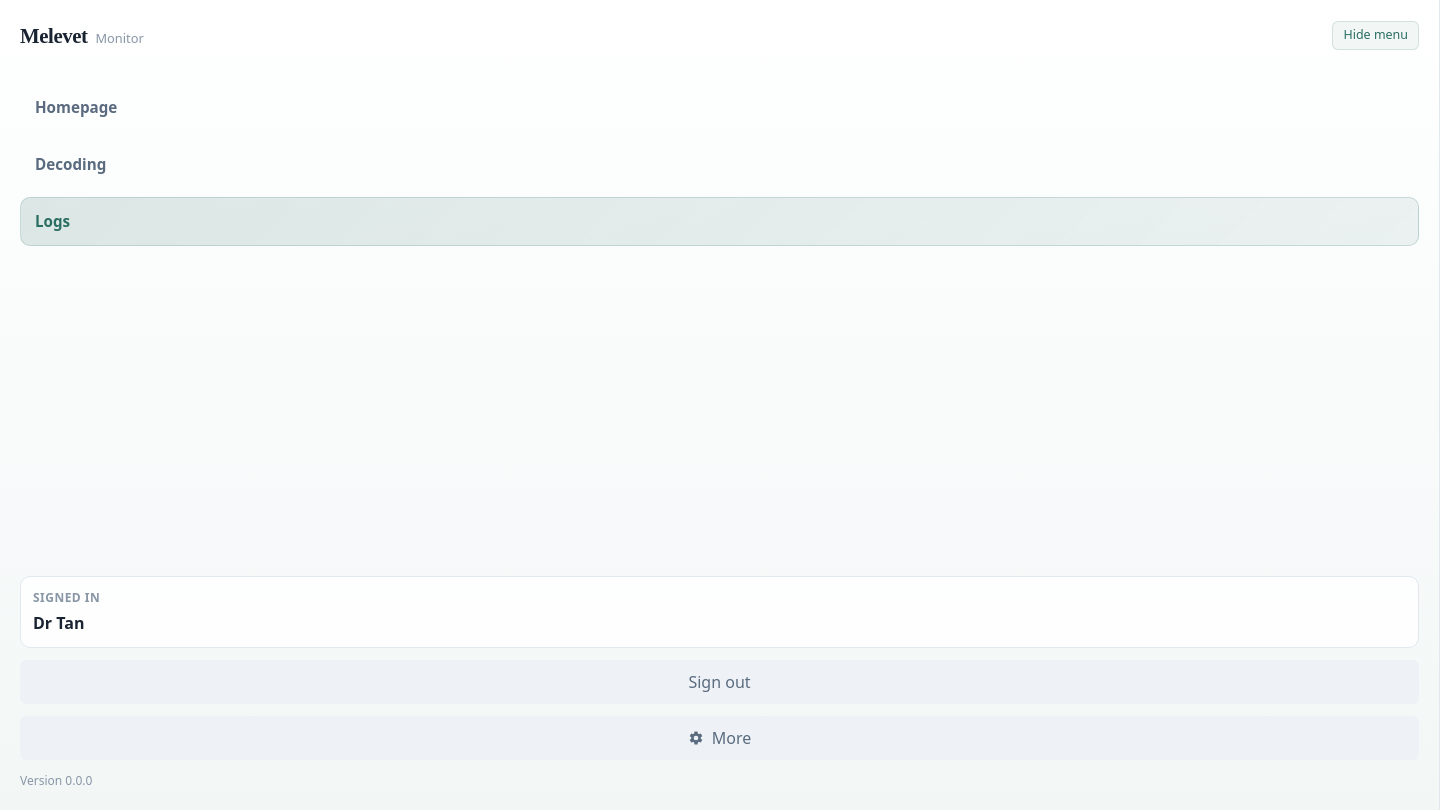
Scenario: NavBar › opens settings and help from the gear menu
Click the button with aria-label "Open settings and help menu": click(720, 738) [20,716,1419,760]
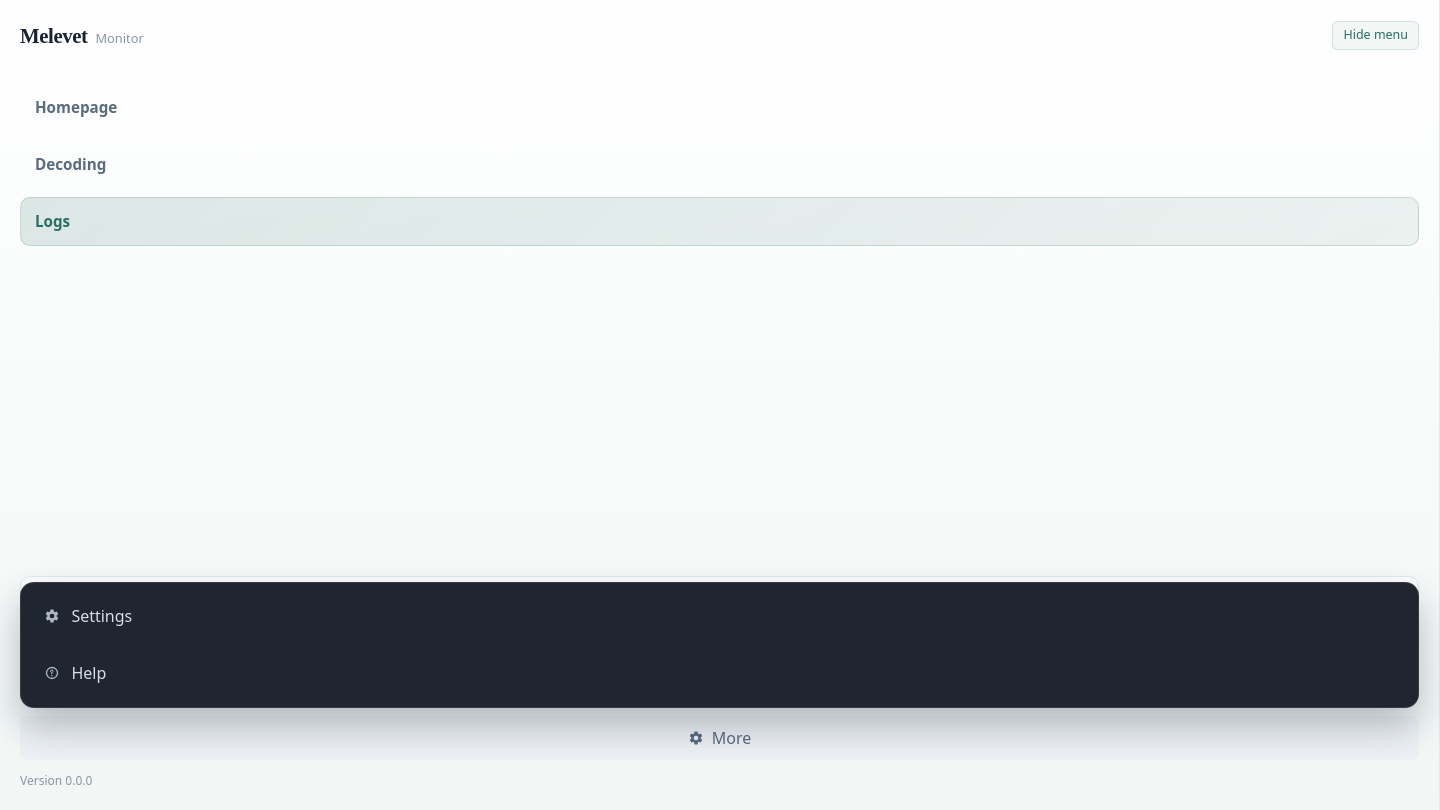
Check: the menu named "Settings and help" is shown, box [20,582,1419,708]
Check: the menu named "Settings and help" shows "Settings", box [29,591,1410,642]
Check: the menu named "Settings and help" shows "Help", box [29,648,1410,699]
